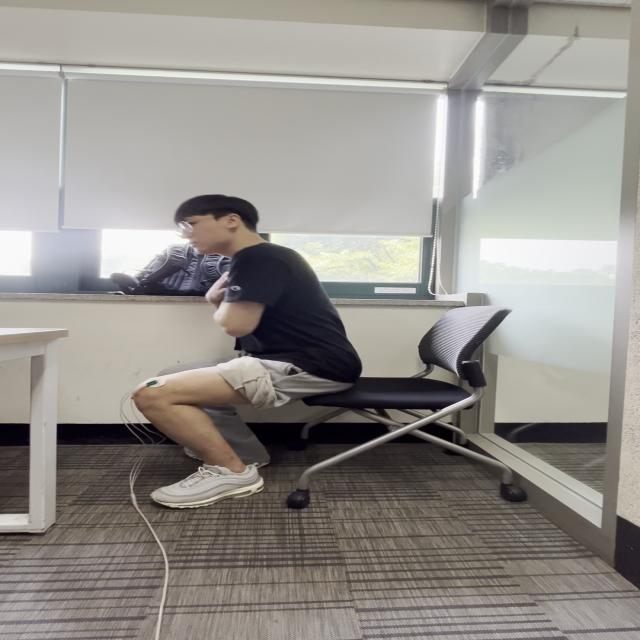squat: (121, 361, 359, 509), (116, 331, 360, 446), (196, 256, 360, 410)
